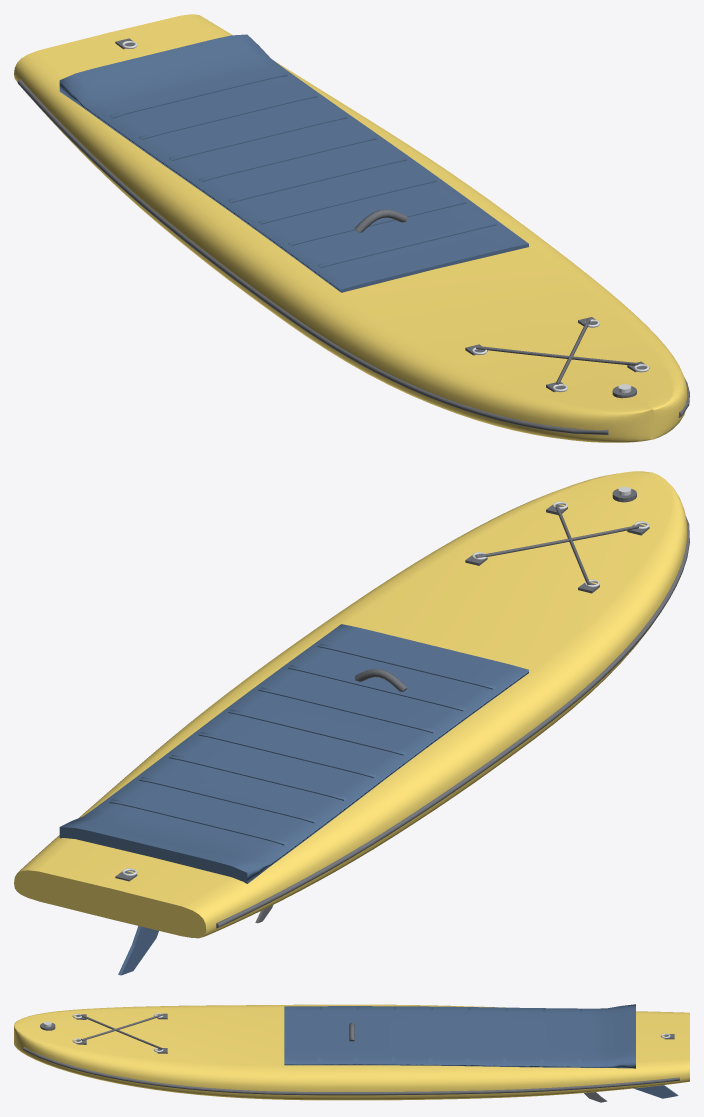
File: beach-surf-and-paddle-kit-inflatable-stand-up-paddlebo-16e3ae20__39416.glb
3 renders of one model, top to bottom at view 1: azimuth 30°, elevation 25°; view 2: azimuth 150°, elevation 25°; view 3: azimuth 270°, elevation 25°, orthographic. The views are drawn at different scales.
Parts seen in each view (by area): view 1: inflatable-stand-up-paddleboard-sun, inflatable-stand-up-paddleboard-navy, inflatable-stand-up-paddleboard-charcoal; view 2: inflatable-stand-up-paddleboard-sun, inflatable-stand-up-paddleboard-navy, inflatable-stand-up-paddleboard-charcoal; view 3: inflatable-stand-up-paddleboard-sun, inflatable-stand-up-paddleboard-navy, inflatable-stand-up-paddleboard-charcoal, inflatable-stand-up-paddleboard-steel.
Part boxes in pixels (x1,y1,x2,y2): inflatable-stand-up-paddleboard-sun: (14, 14, 687, 442); inflatable-stand-up-paddleboard-navy: (59, 34, 528, 292); inflatable-stand-up-paddleboard-charcoal: (17, 38, 689, 435); inflatable-stand-up-paddleboard-sun: (14, 471, 687, 938); inflatable-stand-up-paddleboard-navy: (59, 624, 528, 975); inflatable-stand-up-paddleboard-charcoal: (115, 489, 689, 928); inflatable-stand-up-paddleboard-sun: (14, 1004, 689, 1100); inflatable-stand-up-paddleboard-navy: (284, 1004, 678, 1098); inflatable-stand-up-paddleboard-charcoal: (23, 1013, 679, 1102); inflatable-stand-up-paddleboard-steel: (43, 1013, 670, 1052).
Size of the model in its own units: 0.8338 by 0.3676 by 3.
